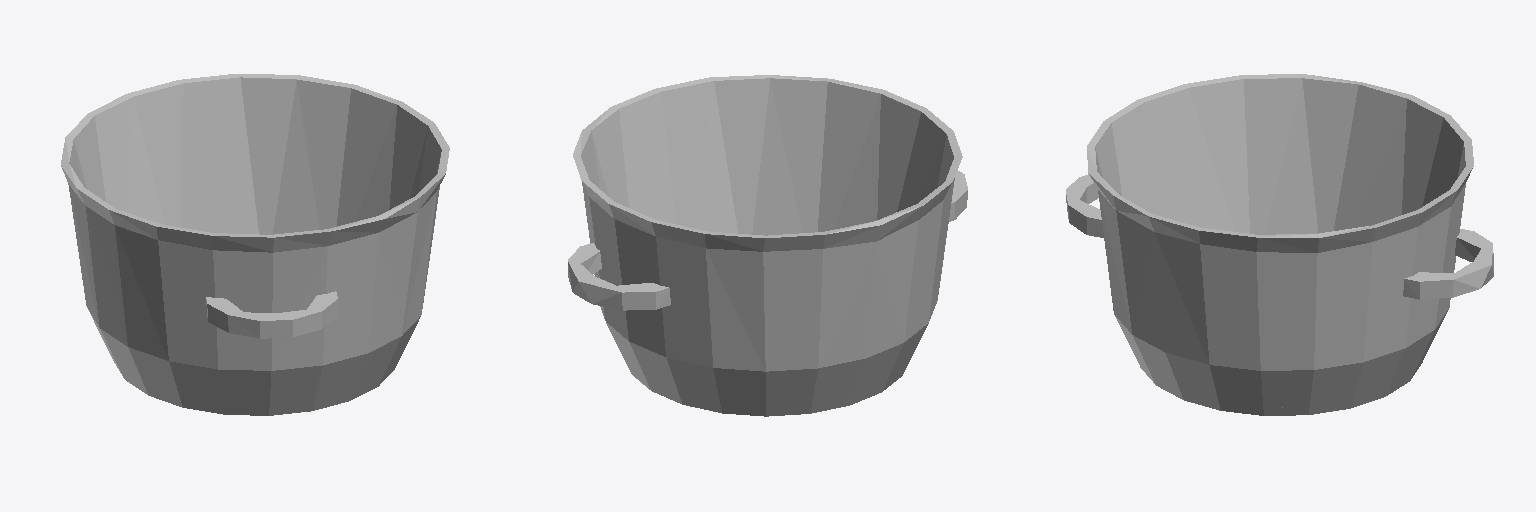
Rendered from Pan03a.obj.
3 renders of one model, left to right at view 1: azimuth 30°, elevation 25°; view 2: azimuth 150°, elevation 25°; view 3: azimuth 270°, elevation 25°, orthographic.
Parts seen in each view (by area): view 1: Pan03a_LOD0_defaultMaterial.011; view 2: Pan03a_LOD0_defaultMaterial.011; view 3: Pan03a_LOD0_defaultMaterial.011.
Boxes of the visible parts, box(x1,y1,x2,y2) form: Pan03a_LOD0_defaultMaterial.011: box(61, 74, 449, 415); Pan03a_LOD0_defaultMaterial.011: box(568, 75, 967, 416); Pan03a_LOD0_defaultMaterial.011: box(1066, 74, 1493, 415).
Size of the model in its own units: 0.3858 by 0.2201 by 0.4271.